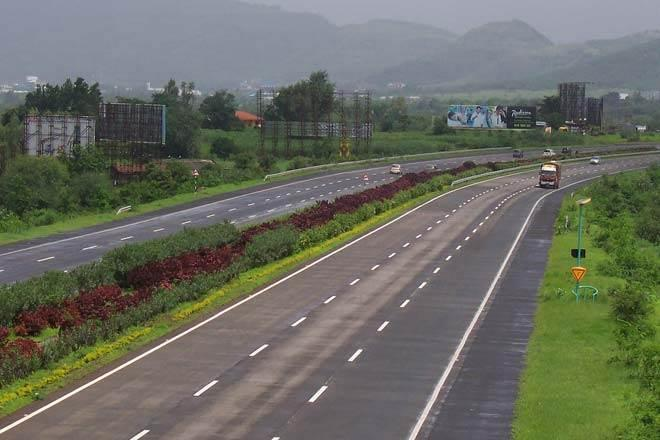car: (538, 158, 564, 195)
